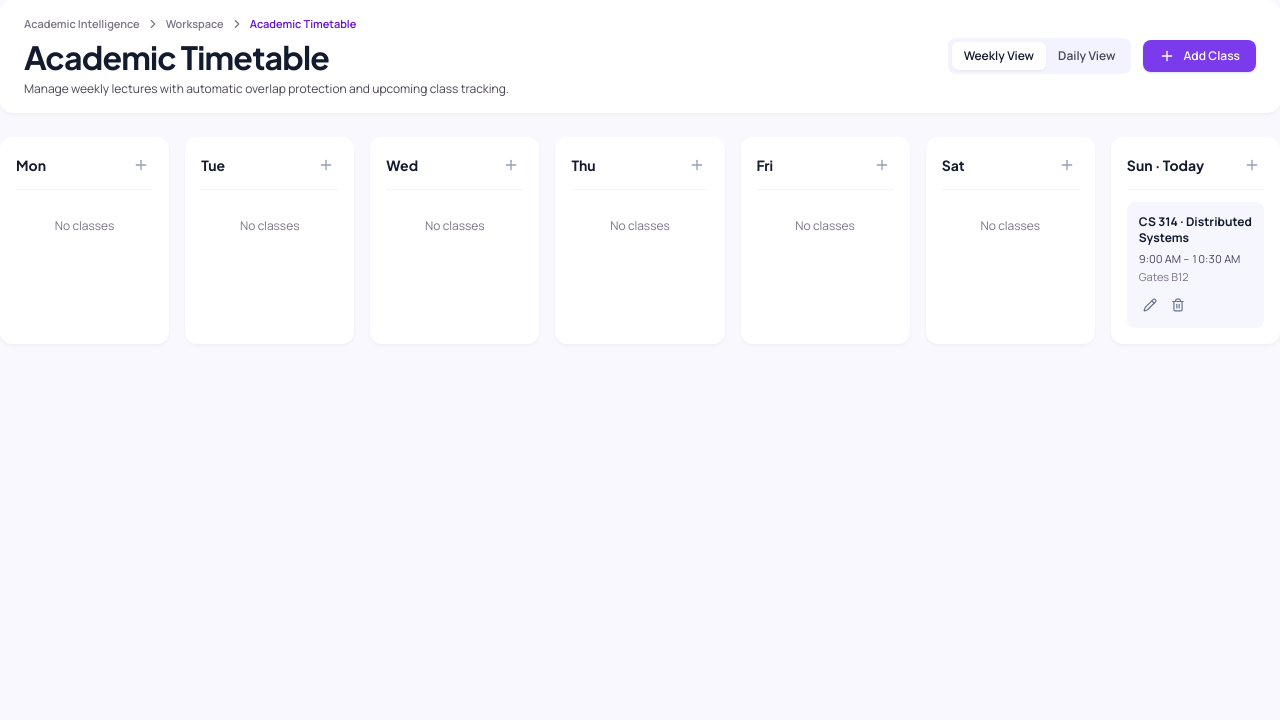
Test: Frontend components › renders TimetablePage and blocks overlapping class creation in the UI
Expected: the heading "Academic Timetable" is shown, left=24, top=36, right=329, bottom=76
Expected: the text "CS 314 · Distributed Systems" is shown, left=1139, top=214, right=1252, bottom=246
Note: Open Add Class modal (defaults to 09:00 - 10:30 on today, which overlaps tt-1)
Click the button "Add Class": coordinates (1200, 56) left=1144, top=40, right=1256, bottom=72
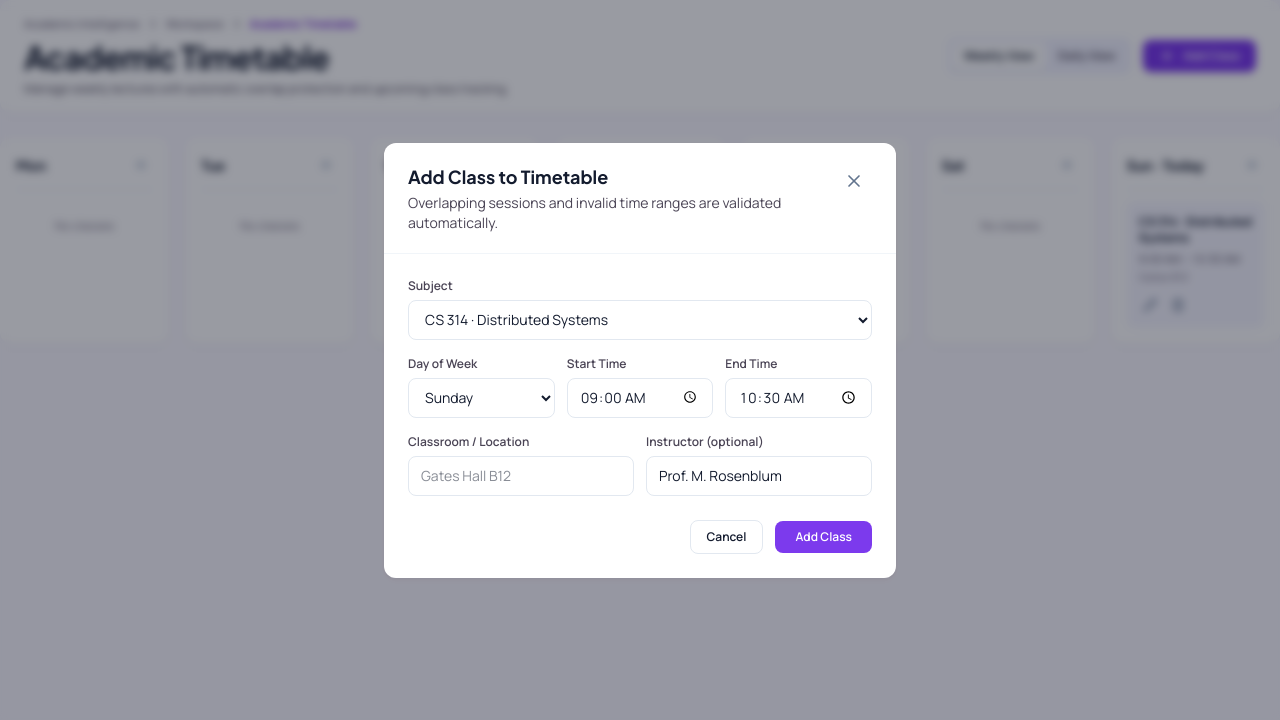
In the field with placeholder "Gates Hall B12": coordinates (521, 476) left=408, top=456, right=634, bottom=496, type "Sloan 104"
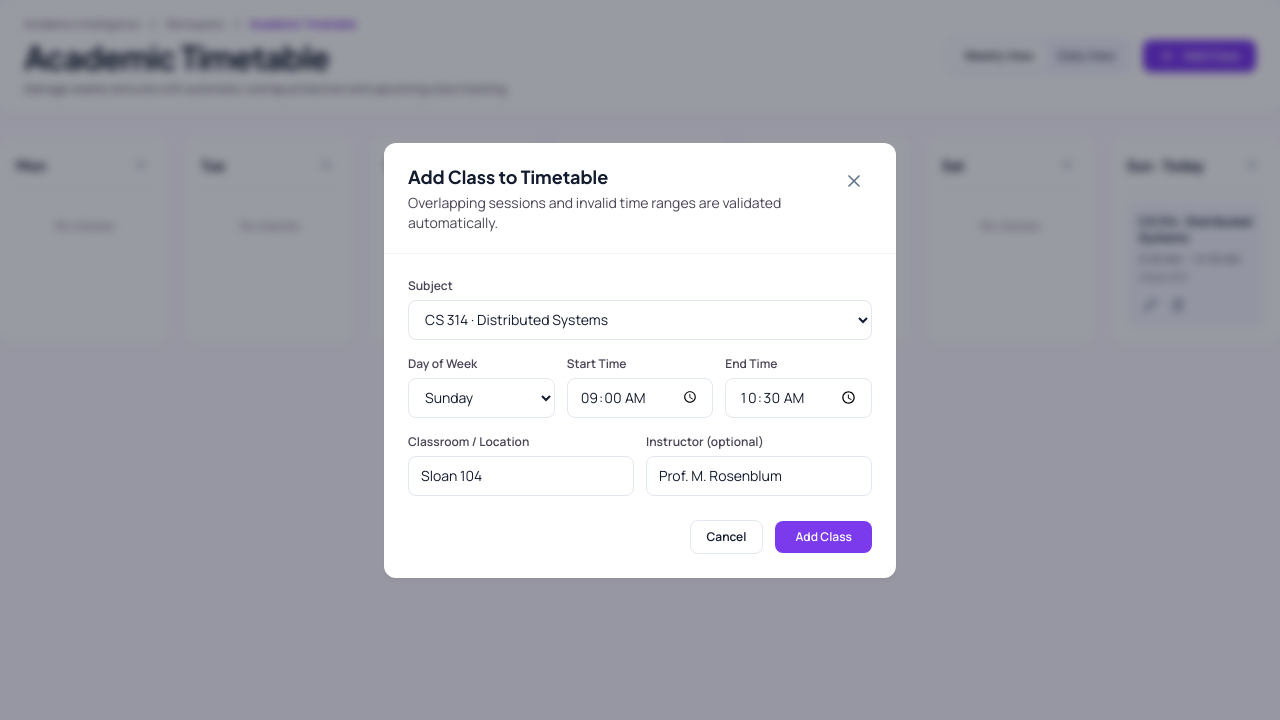
Click the button "Add Class": coordinates (824, 536) left=776, top=520, right=872, bottom=552
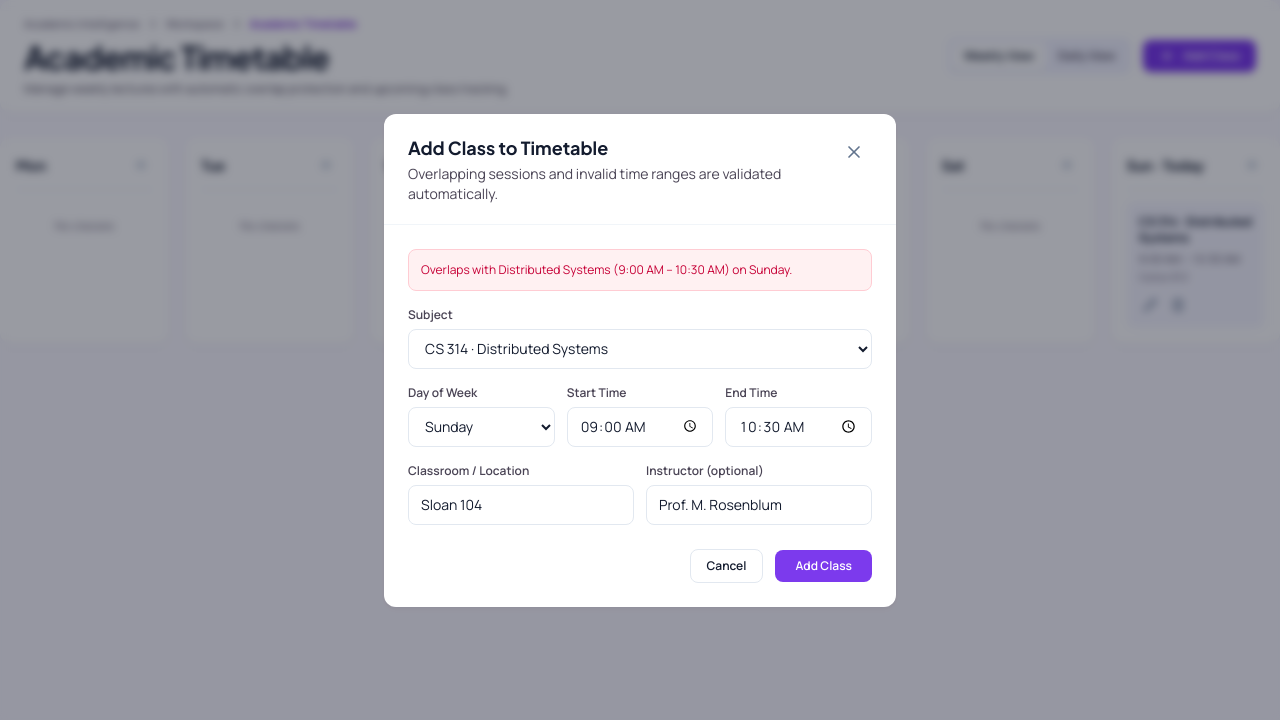
Now the text "Overlaps with Distributed Systems" is shown, box left=421, top=260, right=792, bottom=278
